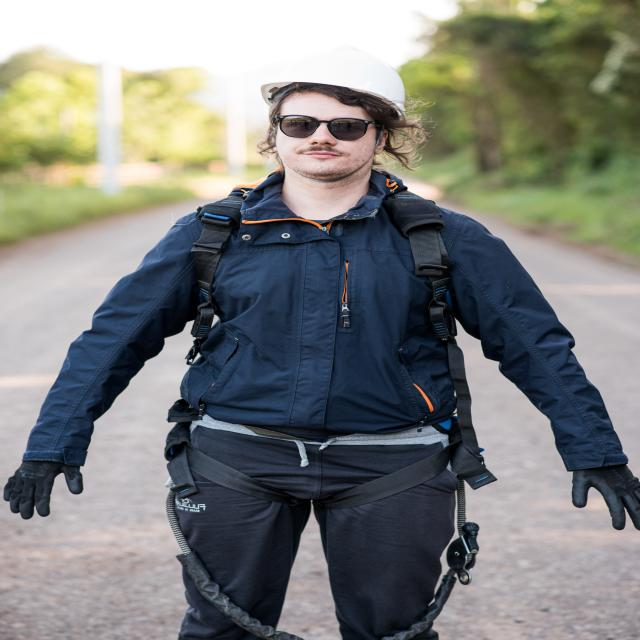capacete: (254, 40, 412, 132)
corda de vida: (156, 174, 488, 542)
luva: (0, 439, 91, 524), (559, 450, 640, 536)
